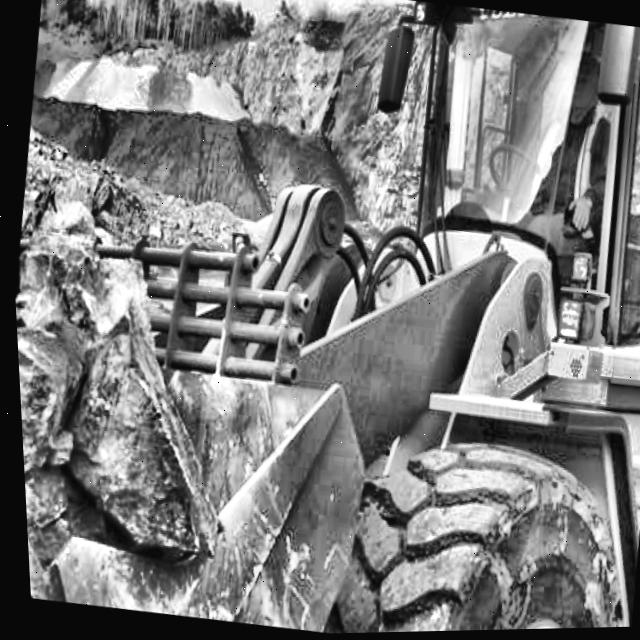buldozerpayloadergrader: (51, 0, 640, 639)
